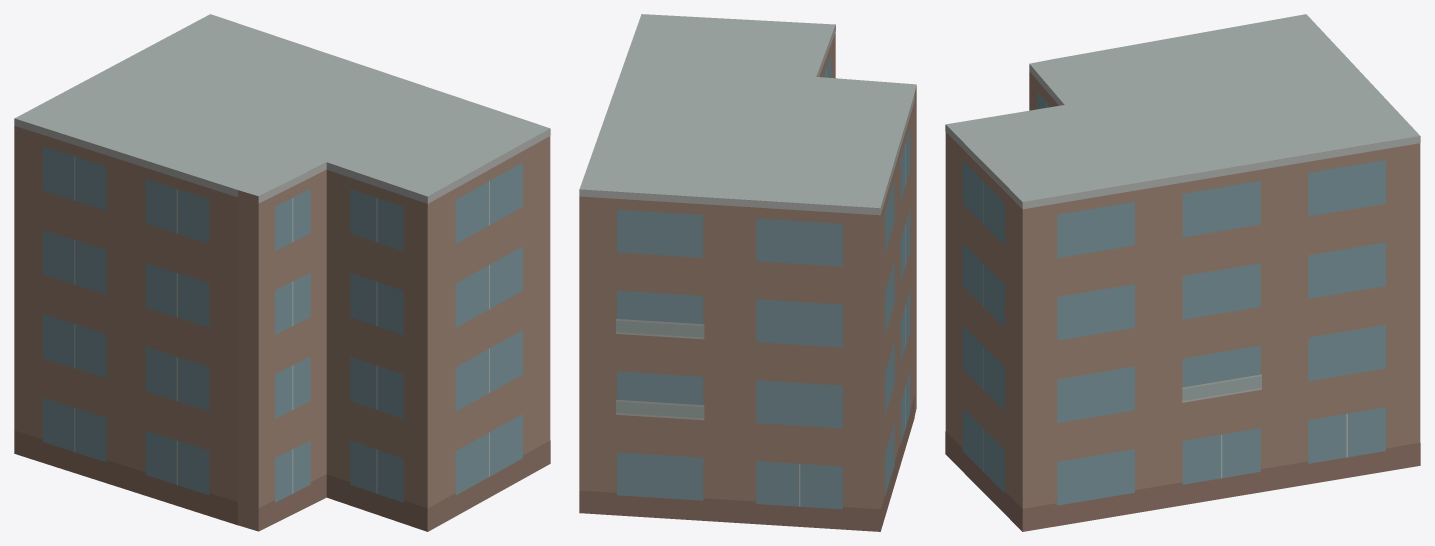
File: survey-upis-32857780.glb
The picture shows the model from 3 angles, left to right: view 1: azimuth 30°, elevation 25°; view 2: azimuth 150°, elevation 25°; view 3: azimuth 270°, elevation 25°; orthographic projection. The views are drawn at different scales.
Parts seen in each view (by area): view 1: survey-upis-32857780.tmp; view 2: survey-upis-32857780.tmp; view 3: survey-upis-32857780.tmp.
Boxes of the visible parts, x1=… form: survey-upis-32857780.tmp: x1=14, y1=14, x2=550, y2=531; survey-upis-32857780.tmp: x1=579, y1=14, x2=916, y2=531; survey-upis-32857780.tmp: x1=945, y1=14, x2=1420, y2=531.
Size of the model in its own units: 13.65 by 11.15 by 14.56.
